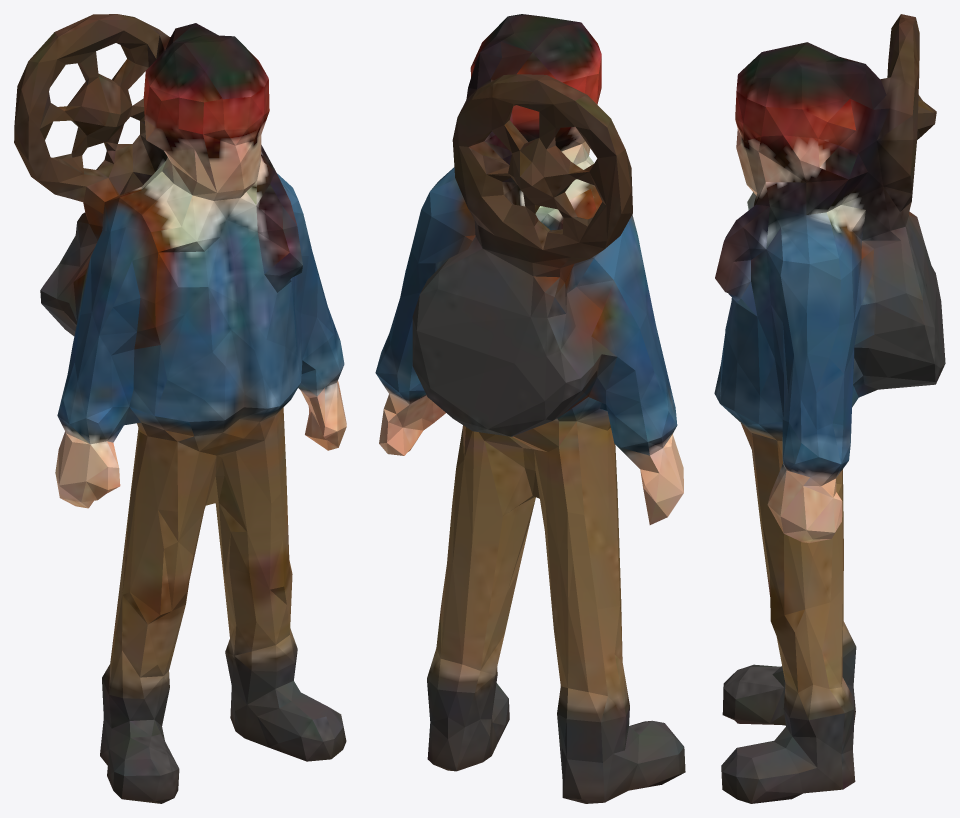
File: habitant-loin.glb
The picture shows the model from 3 angles, left to right: view 1: azimuth 30°, elevation 25°; view 2: azimuth 150°, elevation 25°; view 3: azimuth 270°, elevation 25°; orthographic projection. The views are drawn at different scales.
Parts seen in each view (by area): view 1: habitant; view 2: habitant; view 3: habitant.
Boxes of the visible parts, left/top/right/bottom form: habitant: left=14, top=14, right=346, bottom=803; habitant: left=375, top=14, right=685, bottom=803; habitant: left=714, top=14, right=945, bottom=803.
Size of the model in its own units: 0.4196 by 1.01 by 0.2986.
1 material, 1 textured.
